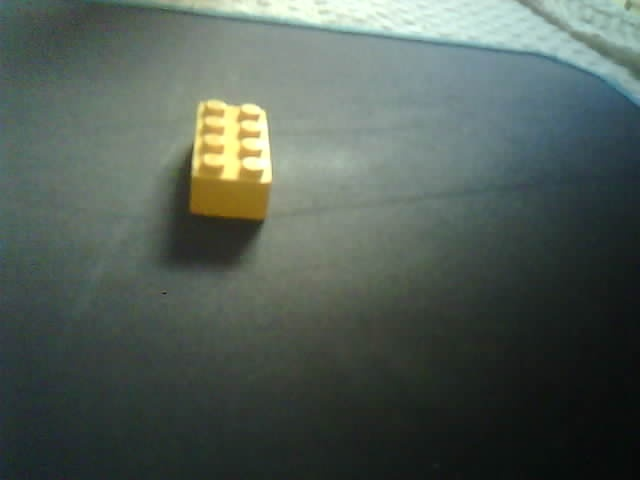lego: (189, 98, 273, 224)
